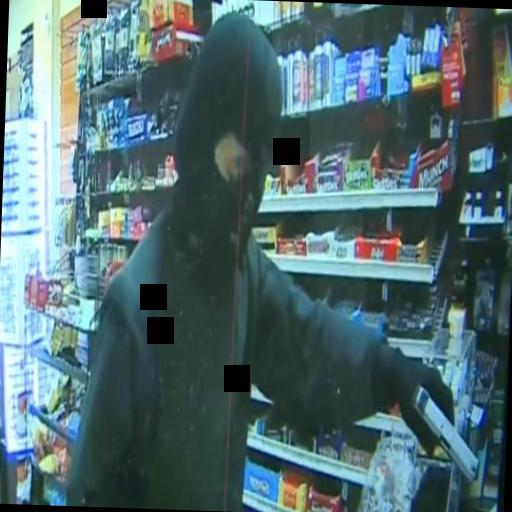Handgun: (401, 358, 484, 484)
